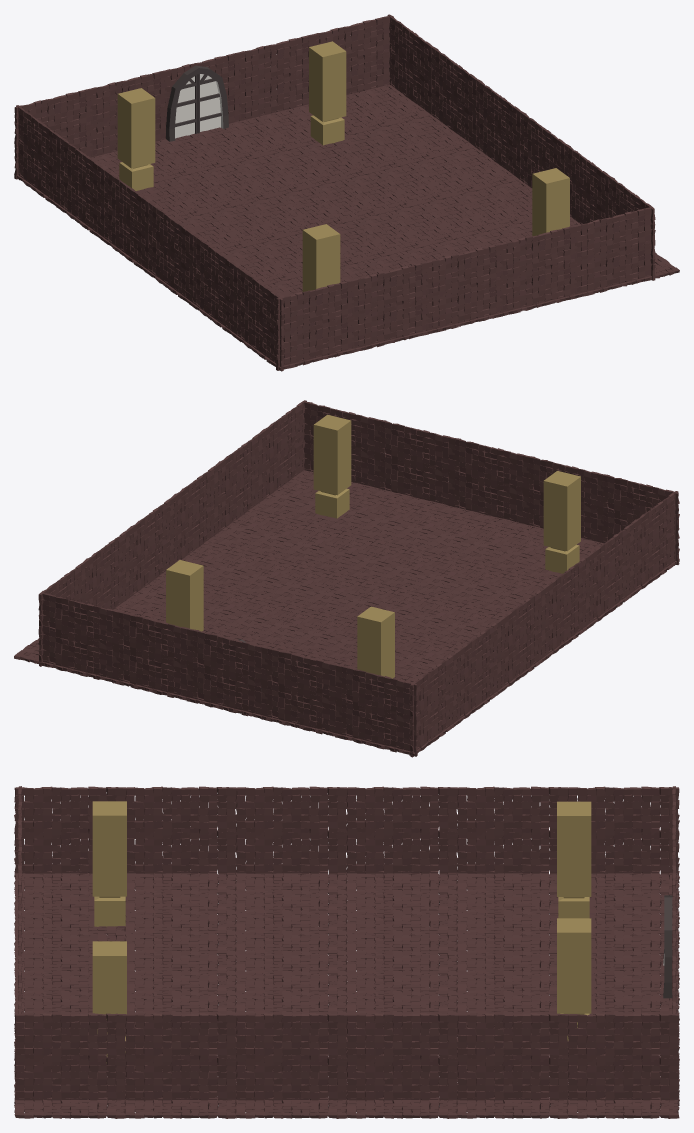
The model's file is first room.fbx.
3 views of the same model, one above another, from view 1: azimuth 30°, elevation 25°; view 2: azimuth 150°, elevation 25°; view 3: azimuth 270°, elevation 25° (orthographic). The views are drawn at different scales.
Parts seen in each view (by area): view 1: Room, Cube.006, Cube.007, Cube.008, Cube.009, Door, RightDoor, LeftDoor; view 2: Room, Cube.009, Cube.008, Cube.006, Cube.007; view 3: Room, Cube.008, Cube.006, Cube.007, Cube.009, Door.
Part boxes in pixels (box(x1,y1,x2,y2)): Room: box(14, 14, 679, 371); Cube.006: box(117, 88, 155, 190); Cube.007: box(309, 41, 346, 145); Cube.008: box(302, 224, 340, 291); Cube.009: box(532, 168, 569, 236); Door: box(166, 65, 228, 141); RightDoor: box(197, 73, 221, 133); LeftDoor: box(175, 74, 197, 138); Room: box(14, 400, 679, 757); Cube.009: box(313, 414, 351, 518); Cube.008: box(543, 471, 580, 573); Cube.006: box(357, 606, 394, 678); Cube.007: box(166, 560, 203, 631); Room: box(14, 786, 679, 1118); Cube.008: box(92, 801, 126, 927); Cube.006: box(557, 801, 591, 918); Cube.007: box(557, 918, 591, 1040); Cube.009: box(92, 941, 126, 1063); Door: box(663, 895, 672, 998).
Bounding box in the file's own units: 7101 × 1577 × 8140.
